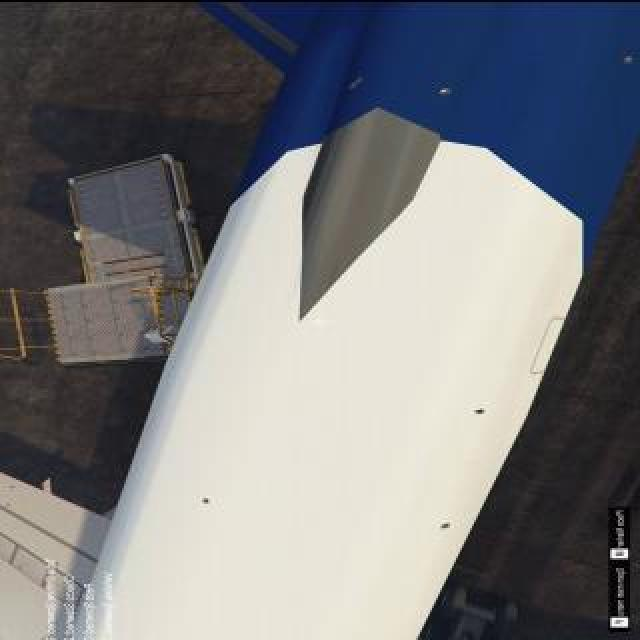crack: (439, 85, 455, 97), (472, 407, 492, 415), (435, 522, 455, 530), (196, 496, 216, 504), (623, 55, 635, 63)
